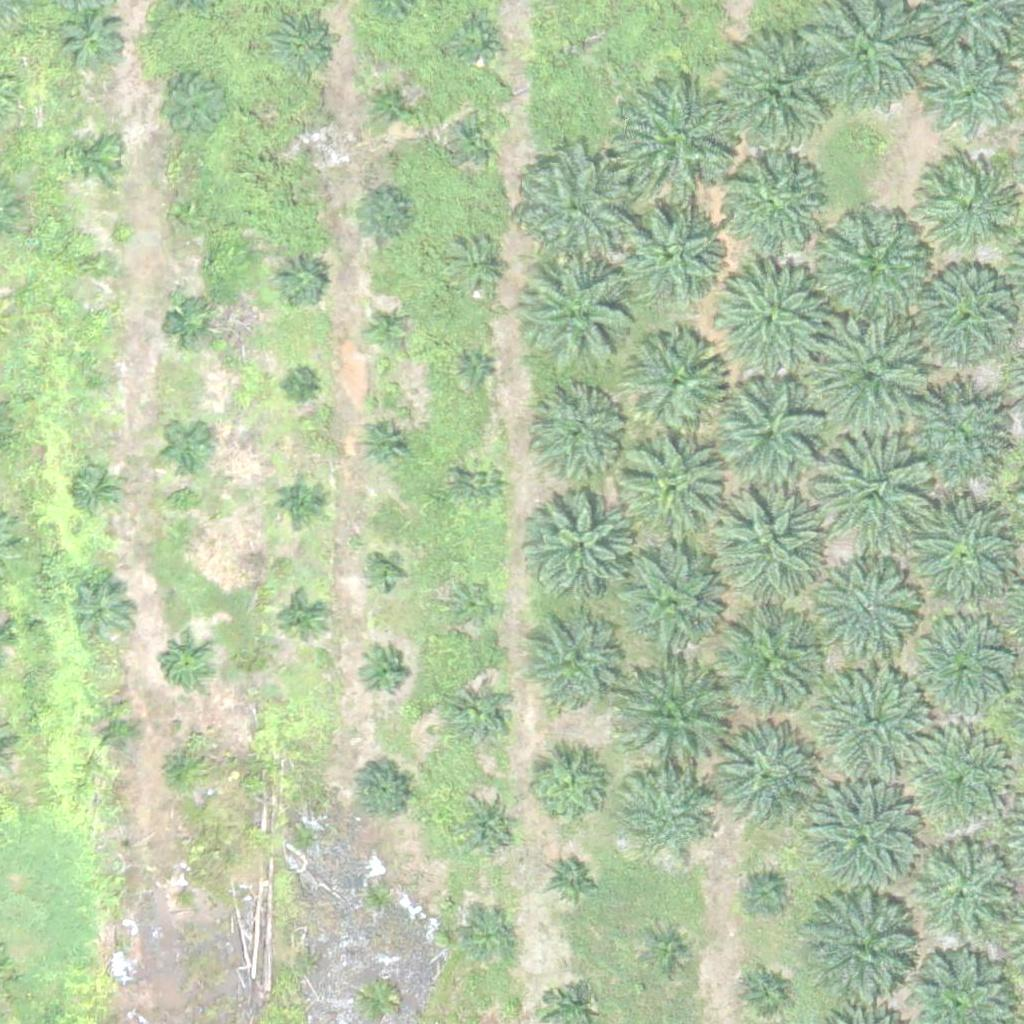Kelapa_Sawit: (618, 79, 743, 205), (808, 312, 933, 438), (810, 202, 935, 328), (705, 480, 830, 606), (812, 428, 937, 554), (720, 33, 833, 147), (820, 665, 933, 779), (710, 260, 823, 373), (709, 377, 822, 490), (706, 721, 819, 834), (898, 721, 1011, 834), (712, 609, 824, 723), (620, 665, 732, 779), (616, 549, 728, 663), (619, 432, 731, 546), (519, 152, 631, 265), (528, 258, 640, 371), (908, 498, 1020, 611), (808, 787, 920, 900), (808, 899, 920, 1012), (918, 43, 1018, 144), (621, 202, 721, 303), (627, 330, 727, 431), (911, 626, 1011, 727), (823, 566, 923, 667), (916, 158, 1016, 258), (914, 267, 1014, 367), (899, 390, 999, 490), (720, 151, 820, 251), (532, 496, 632, 596), (520, 622, 620, 722), (522, 745, 609, 833), (537, 392, 624, 480), (622, 772, 709, 860), (154, 67, 229, 142), (457, 797, 520, 860), (71, 580, 134, 643), (352, 756, 415, 819), (352, 184, 415, 247), (451, 687, 513, 750), (270, 15, 332, 78), (61, 6, 123, 69), (545, 849, 607, 912), (274, 593, 324, 644), (358, 647, 408, 698), (451, 241, 501, 292), (67, 129, 117, 180), (274, 254, 324, 305), (367, 76, 417, 127), (92, 706, 142, 757), (154, 741, 204, 792), (464, 916, 514, 966), (456, 459, 506, 509), (276, 476, 326, 526), (164, 421, 214, 471), (71, 464, 121, 514), (159, 639, 209, 689), (166, 301, 216, 351), (643, 927, 693, 977), (451, 114, 501, 164), (450, 15, 500, 65), (362, 304, 412, 354), (445, 578, 495, 628), (361, 418, 411, 468), (740, 868, 790, 918), (741, 971, 791, 1021), (174, 197, 212, 235), (365, 553, 403, 591), (297, 130, 322, 155), (463, 359, 488, 384), (286, 373, 311, 398), (85, 366, 110, 391), (85, 250, 110, 275), (169, 884, 194, 909)
